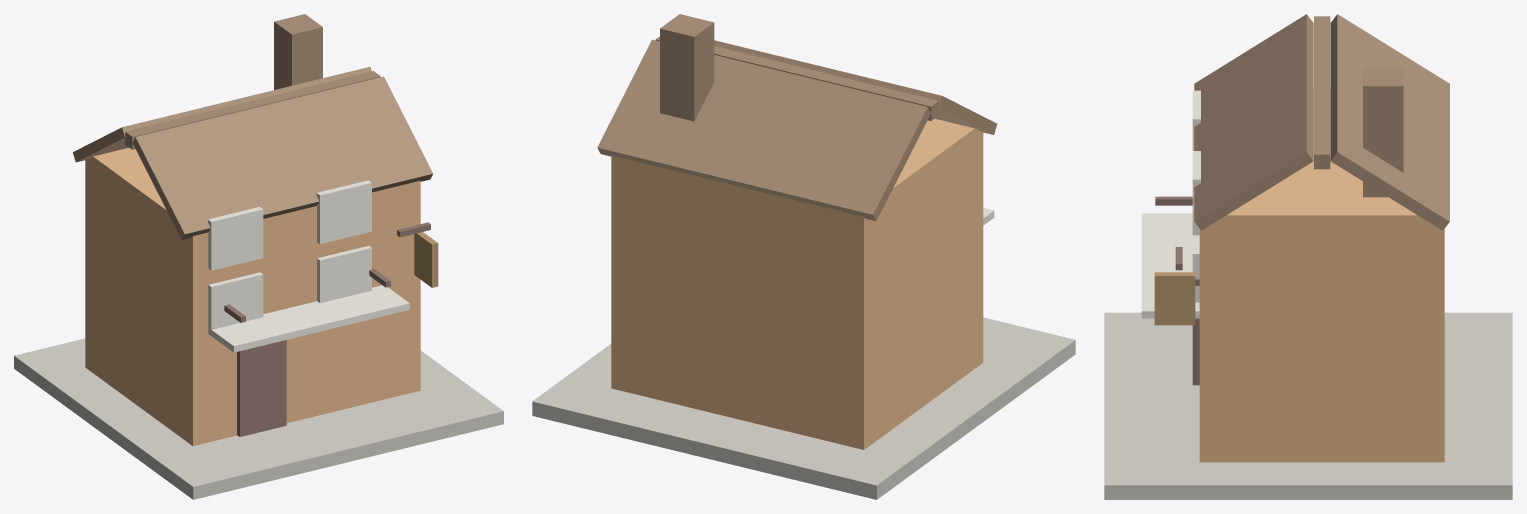
The model's file is PUB.glb.
3 views of the same model, side by side, from view 1: azimuth 30°, elevation 25°; view 2: azimuth 150°, elevation 25°; view 3: azimuth 270°, elevation 25° (orthographic). The views are drawn at different scales.
Visible parts, largest first — view 1: PUB; view 2: PUB; view 3: PUB.
Boxes of the visible parts, box(x1,y1,x2,y2) form: PUB: box(14, 14, 503, 499); PUB: box(532, 14, 1075, 499); PUB: box(1104, 14, 1512, 499).
Bounding box in the file's own units: 3 × 3.05 × 3.
